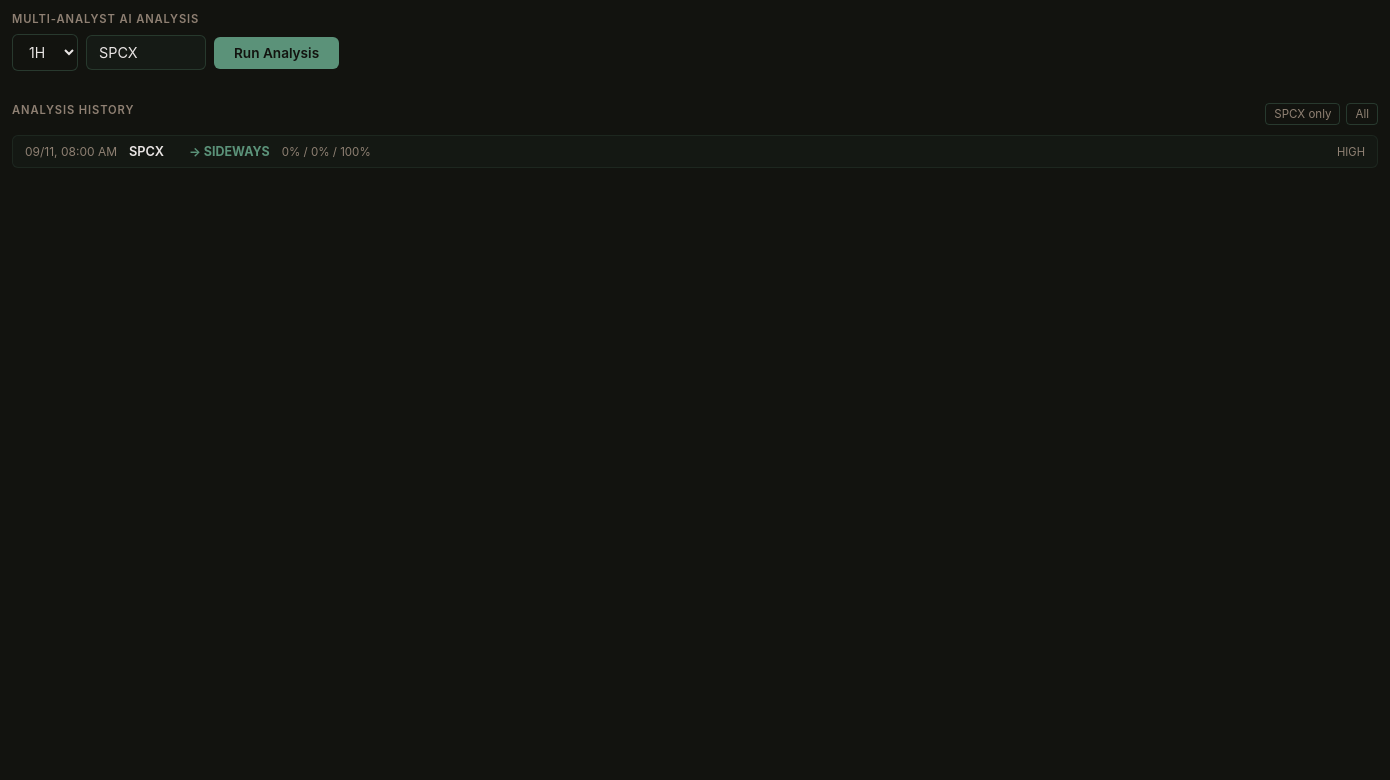
Scenario: Analysis failures › preserves valid neutral results and export actions
Click the button "09/11, 08:00 AM SPCX → SIDEWAYS 0% / 0% / 100% HIGH" at (71, 152), box [12,135,1378,168]
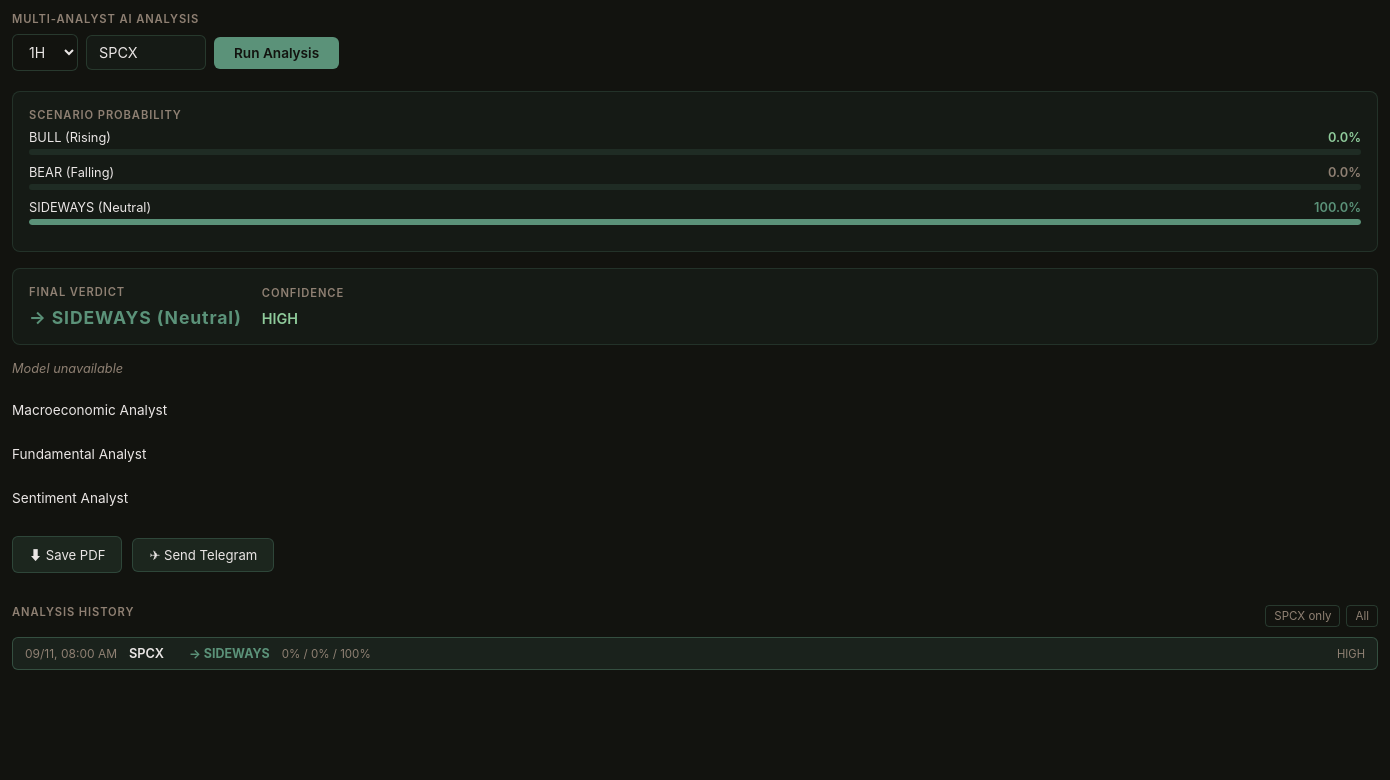
Result: the button "⬇ Save PDF" is shown at [12,536,122,573]
Result: the text "100.0%" is shown at [1314,200,1361,215]
